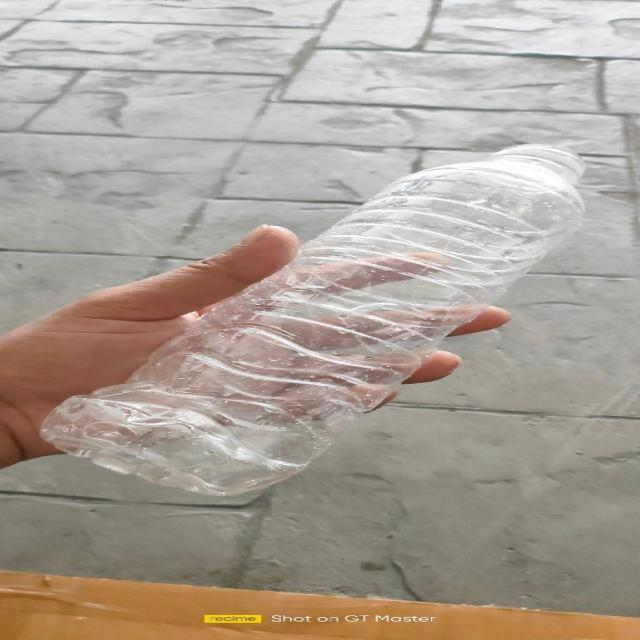bottle: (40, 144, 585, 495)
